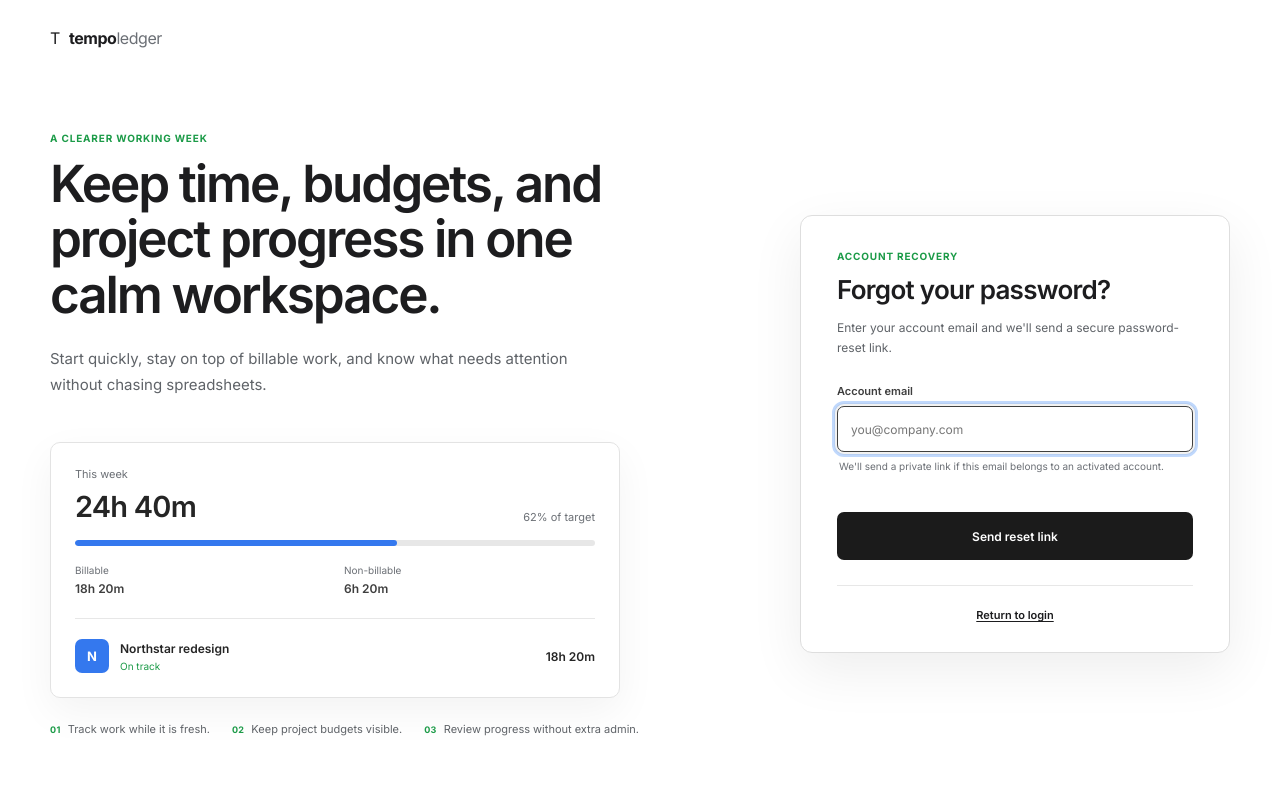
password recovery › validates the email and shows the same inbox confirmation
Step 1. Click the button "Send reset link" → [1015, 536], box [837,512,1193,560]
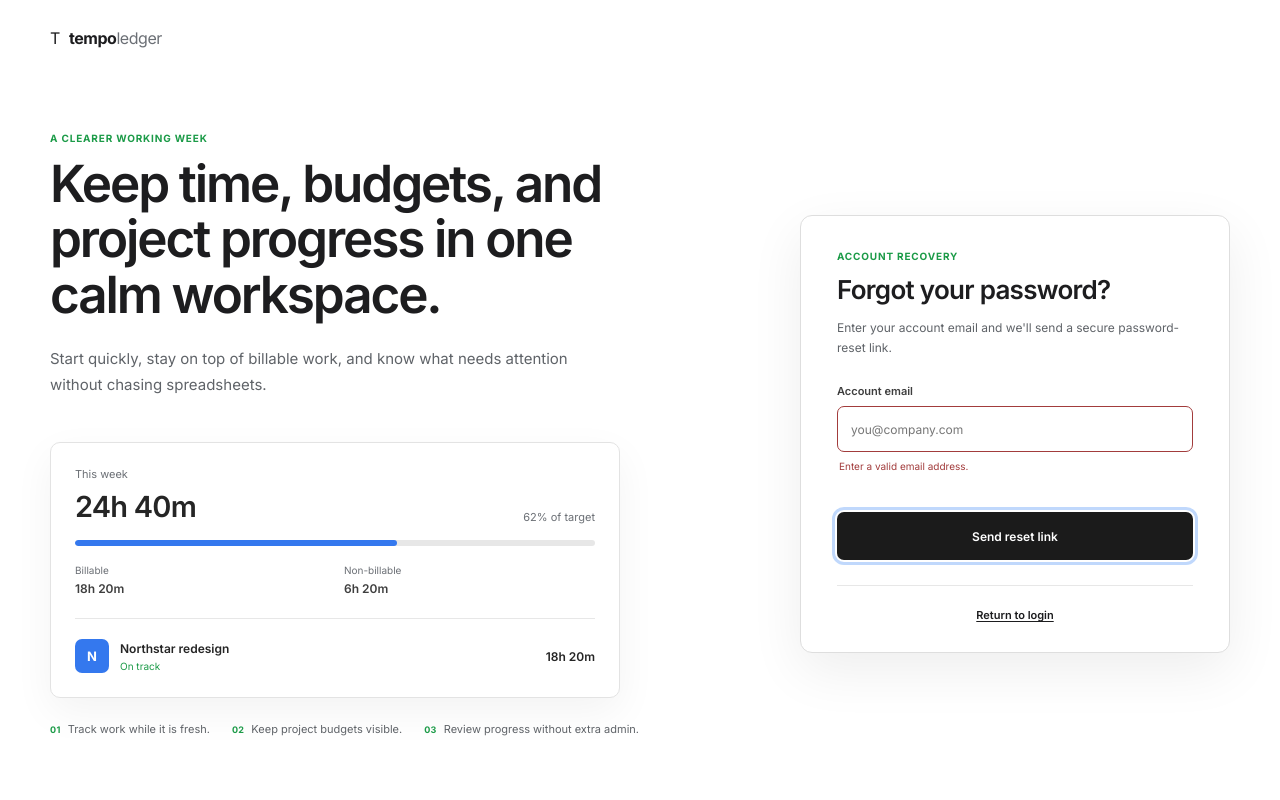
Check: the text "Enter a valid email address." is shown, box [839,460,968,472]
Step 2. Type "maia@example.com" into the field labelled "Account email" → [1015, 429], box [837,406,1193,452]
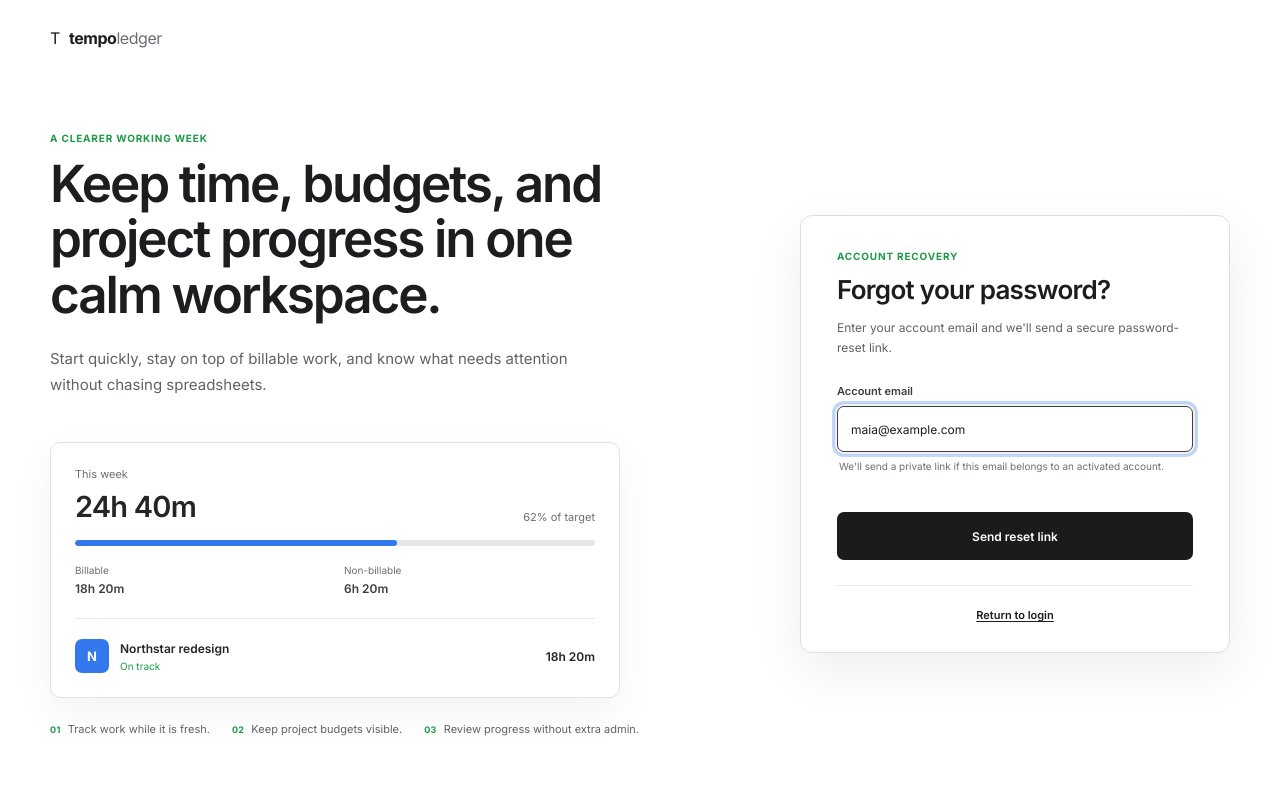
Step 3. Click the button "Send reset link" → [1015, 536], box [837,512,1193,560]
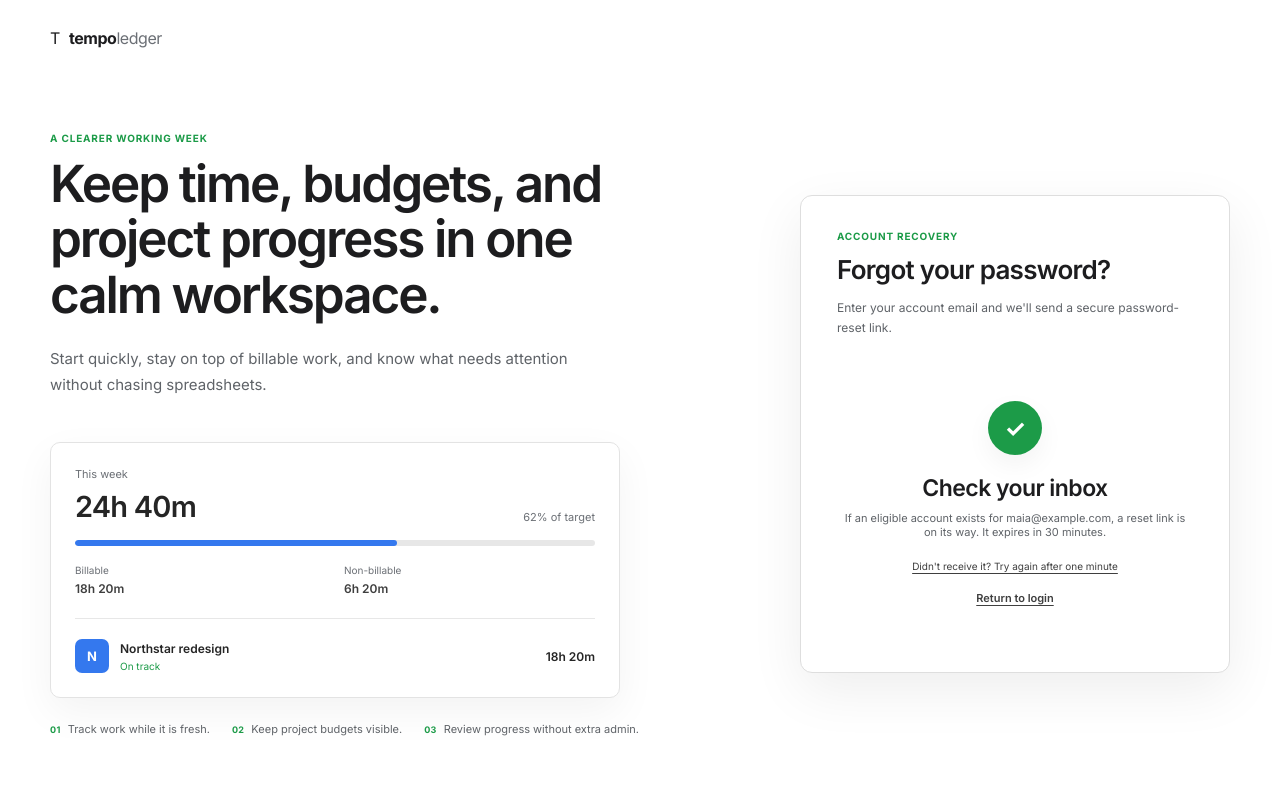
Check: the message shows "Check your inbox", box [922,474,1108,502]
Check: the button "Didn't receive it? Try again after one minute" is shown, box [906,559,1124,573]
